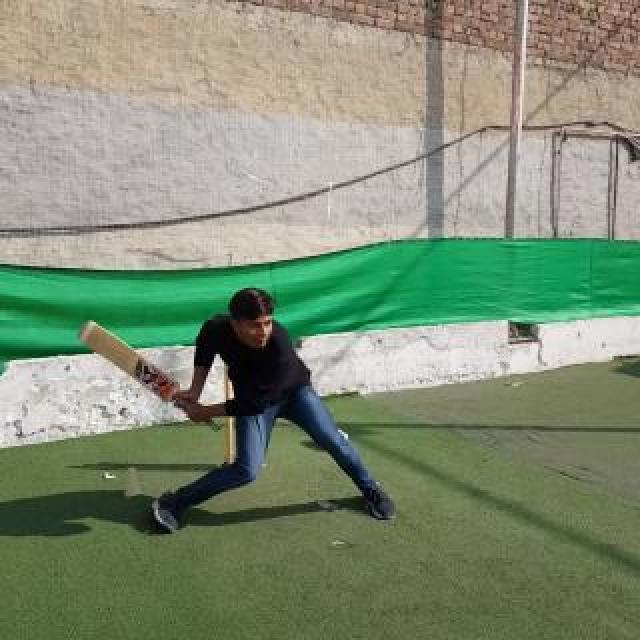bat: (78, 320, 222, 432)
